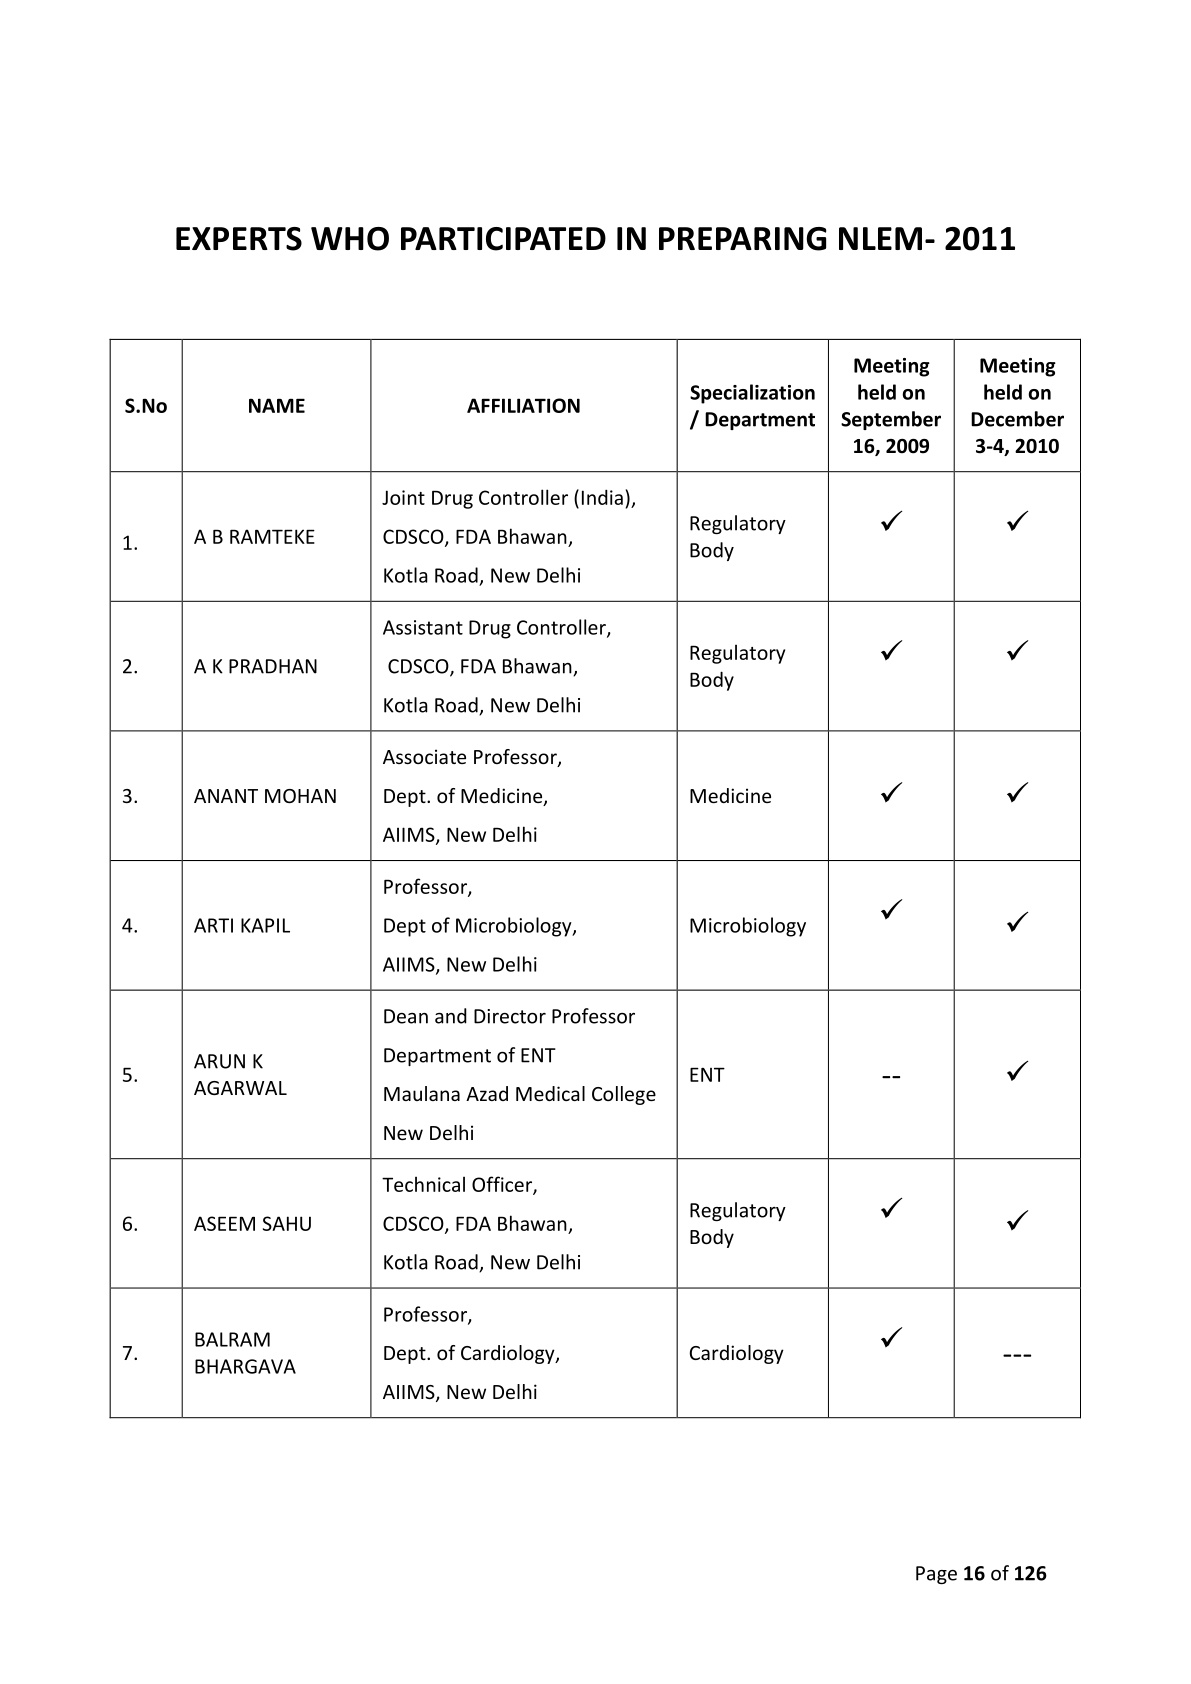full_lined: (103, 331, 1092, 1428)
